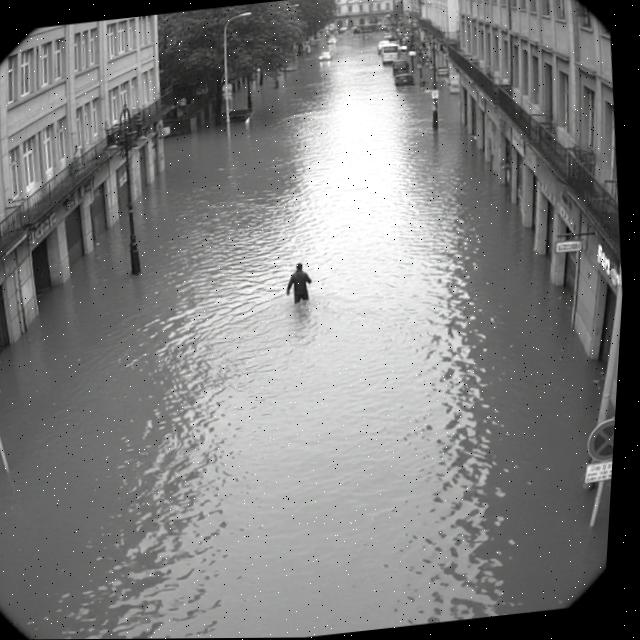civilian: (269, 252, 328, 313)
